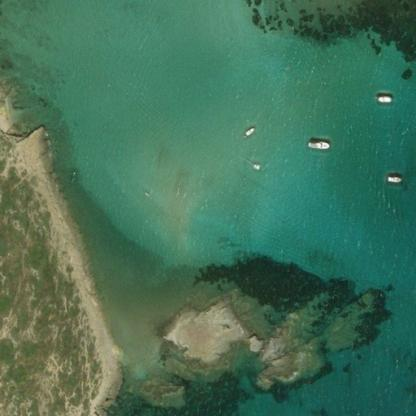ship: (301, 134, 338, 154), (380, 168, 404, 188), (240, 118, 259, 143), (372, 88, 396, 106), (248, 153, 265, 176)
